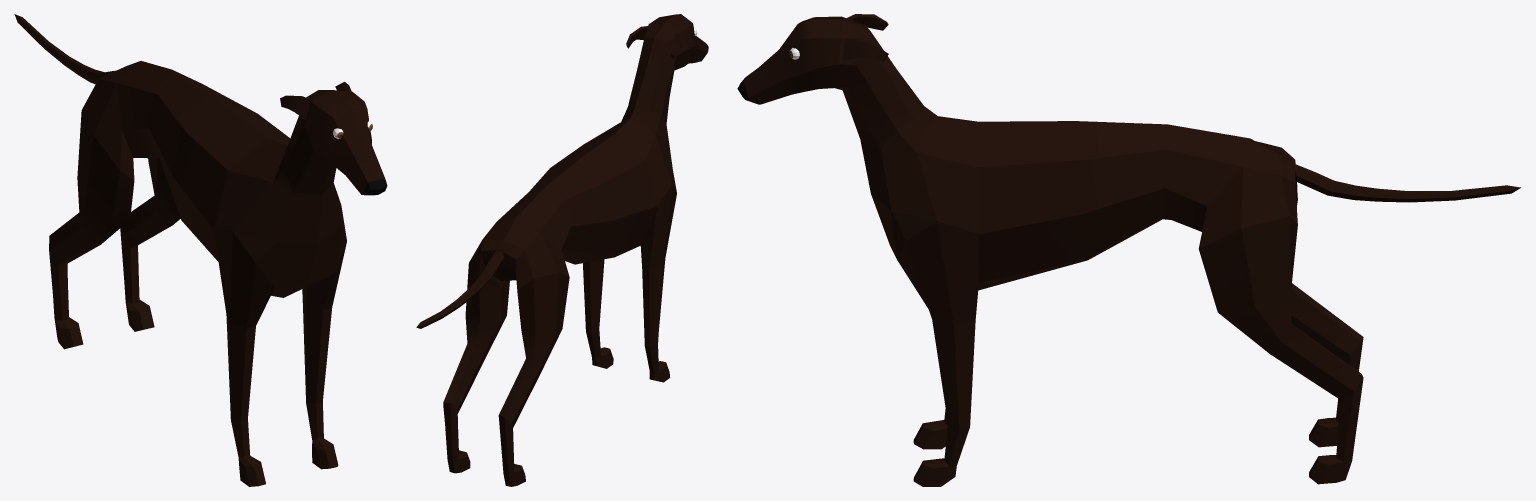
Rendered from SIEFRING_Greyhound_LP.obj.
3 views of the same model, side by side, from view 1: azimuth 30°, elevation 25°; view 2: azimuth 150°, elevation 25°; view 3: azimuth 270°, elevation 25° (orthographic). The views are drawn at different scales.
Visible parts, largest first — view 1: Greyhound1 polySurface6, Greyhound1 RightEar; view 2: Greyhound1 polySurface6; view 3: Greyhound1 polySurface6.
Part boxes in pixels (box(x1,y1,x2,y2)): Greyhound1 polySurface6: box(14, 14, 387, 486); Greyhound1 RightEar: box(280, 95, 310, 119); Greyhound1 polySurface6: box(416, 14, 708, 486); Greyhound1 polySurface6: box(737, 16, 1520, 486).
Bounding box in the file's own units: 1.44 × 5.27 × 8.43.
